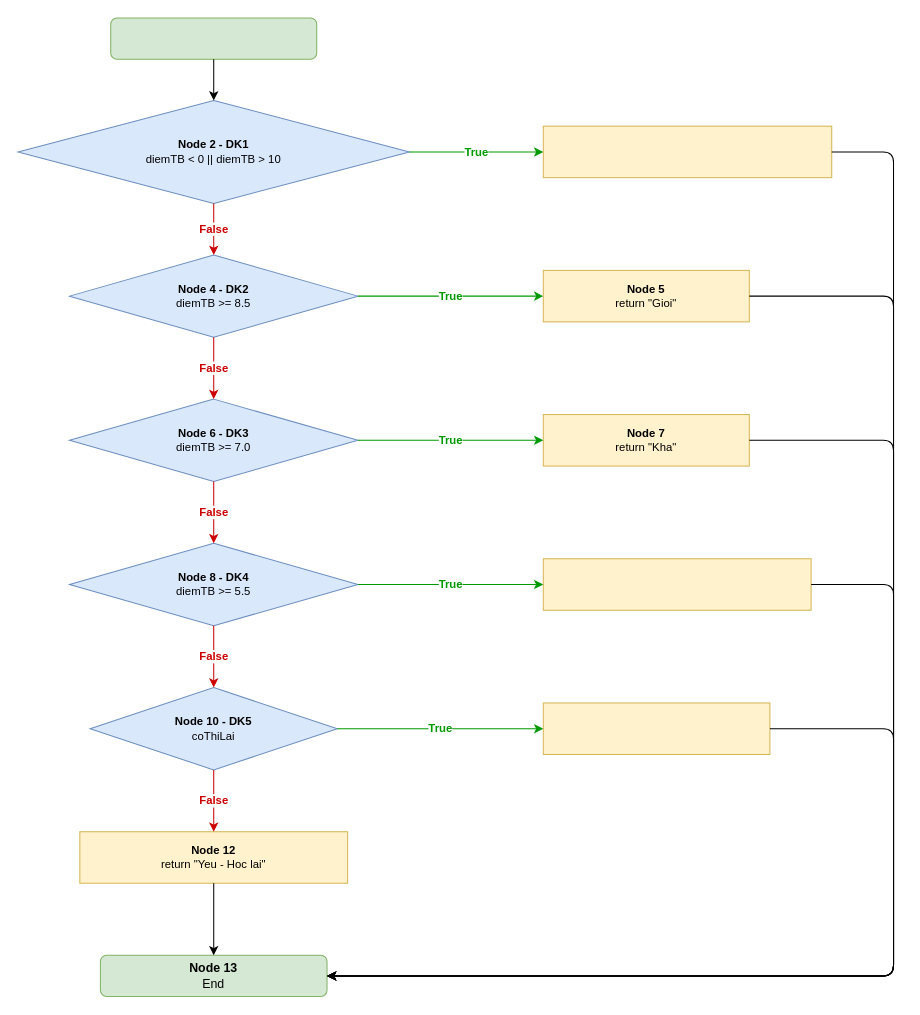
This 920x1015 diagram has some shape labels left out. The box of each missing label's shape, as (x1, y1, x2, y2) in pixels:
Node 1 Start: (110, 17, 317, 59)
Node 11 return "Thi lai": (542, 702, 770, 754)
Node 3 return "Diem khong hop le": (542, 125, 832, 178)
Node 9 return "Trung Binh": (542, 558, 811, 610)
